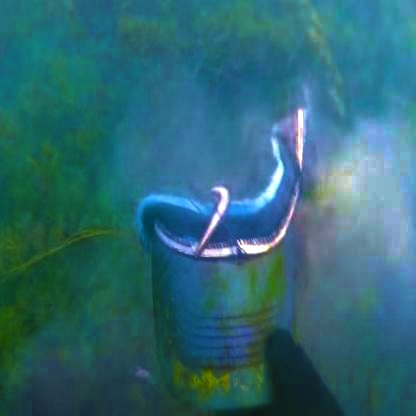misc: (119, 162, 324, 390)
